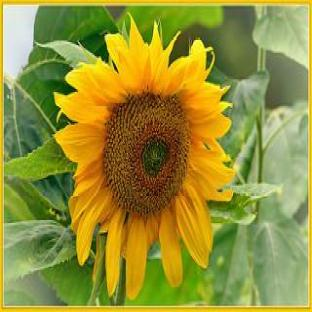sunflower: (53, 16, 234, 307)
